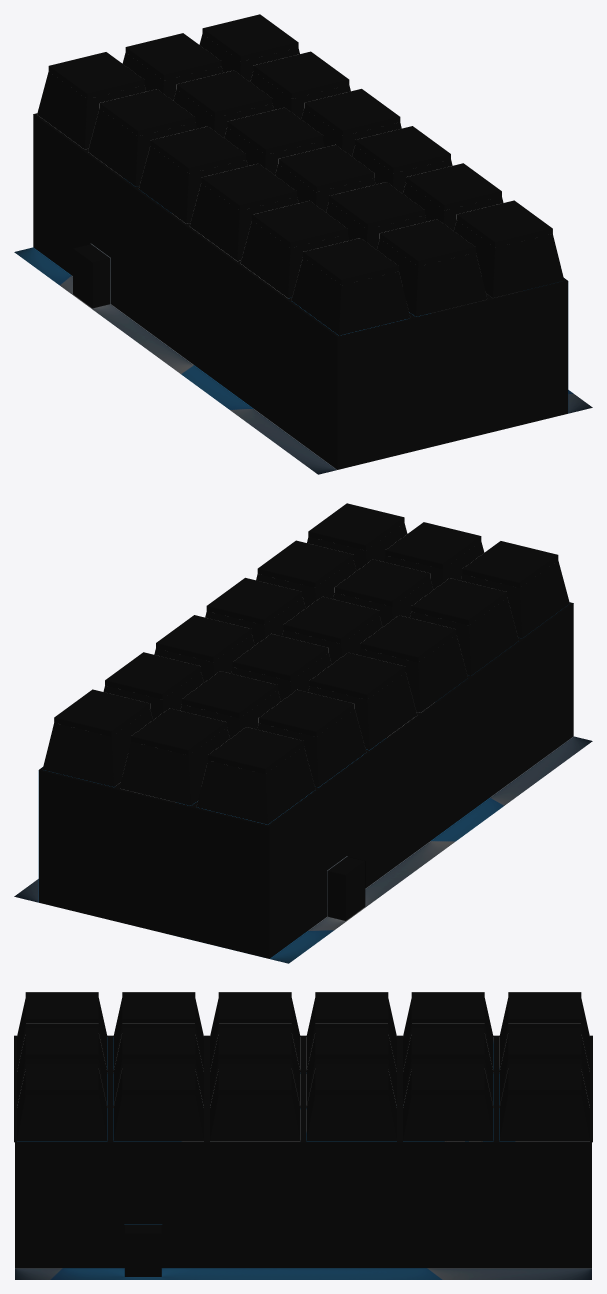
3 views of the same model, one above another, from view 1: azimuth 30°, elevation 25°; view 2: azimuth 150°, elevation 25°; view 3: azimuth 270°, elevation 25° (orthographic). The views are drawn at different scales.
Parts seen in each view (by area): view 1: VR Gallery.001; view 2: VR Gallery.001; view 3: VR Gallery.001.
Part boxes in pixels (x1,y1,x2,y2): VR Gallery.001: [14, 14, 592, 474]; VR Gallery.001: [14, 503, 592, 963]; VR Gallery.001: [14, 992, 592, 1279].
Size of the model in its own units: 12.94 by 8.26 by 24.9.
2 materials, 1 textured.
